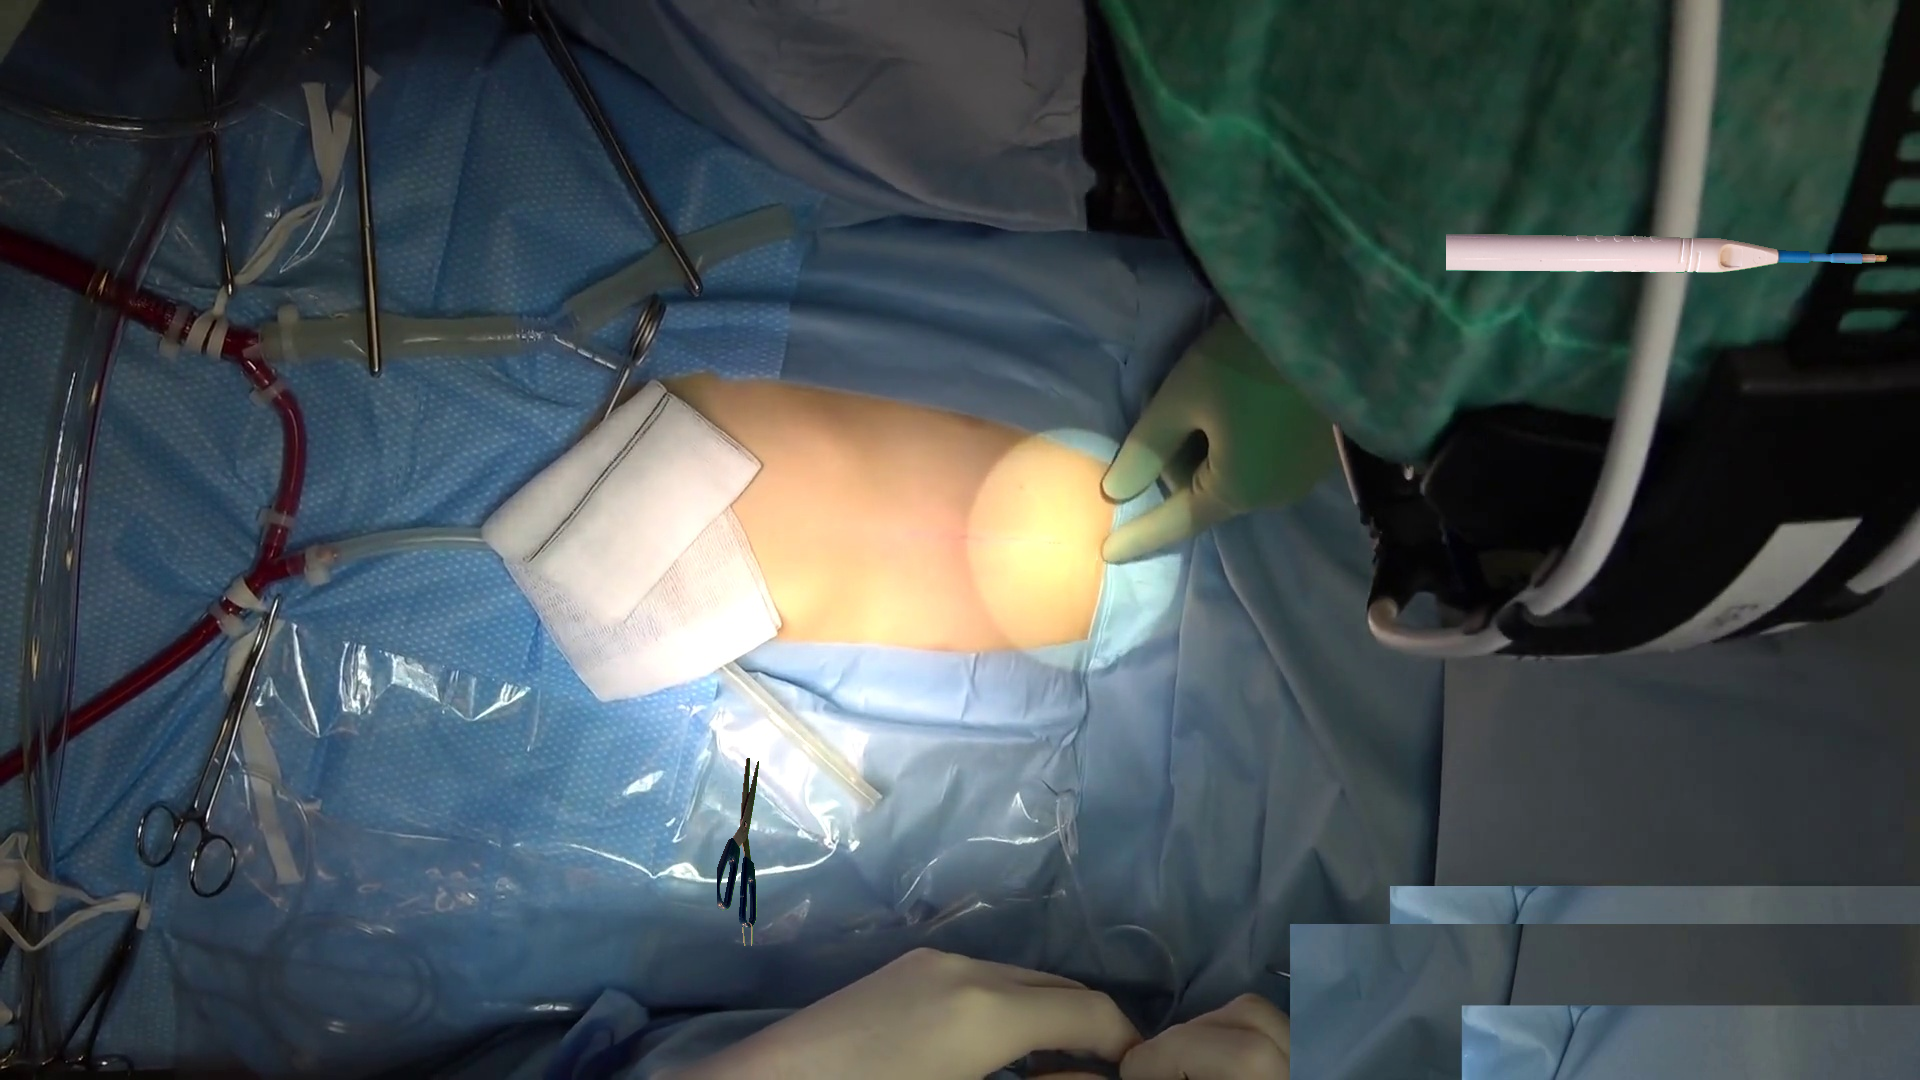diathermy: (1447, 233, 1887, 272)
scissors: (717, 758, 758, 945)
